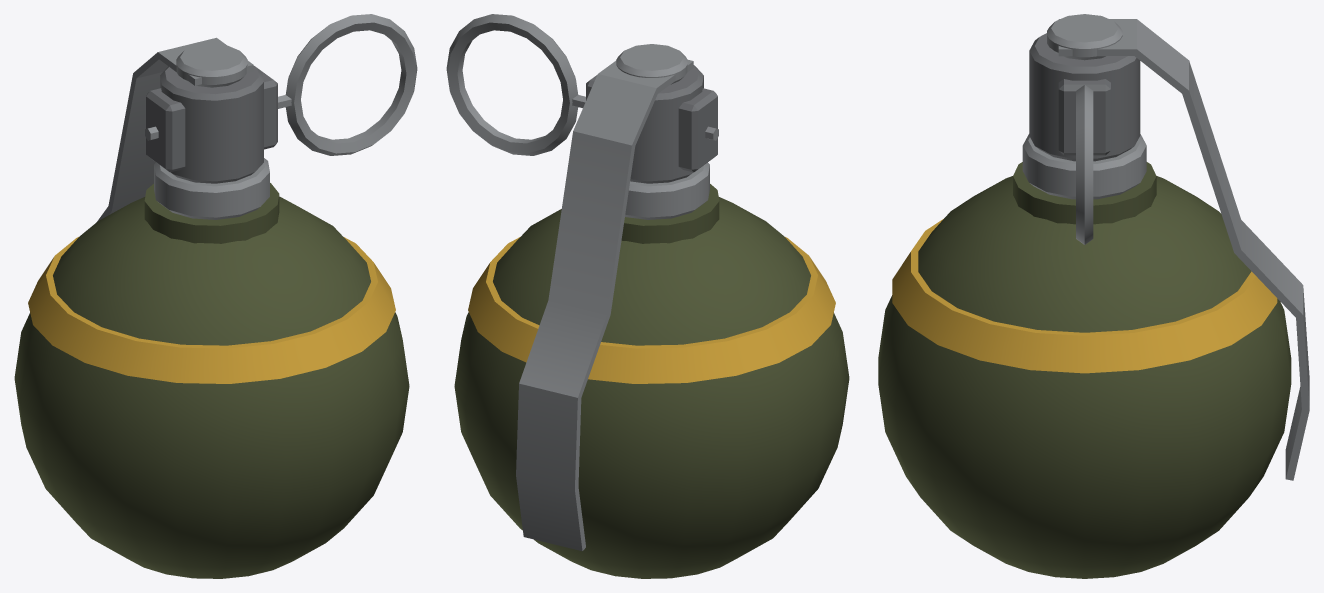
Rendered from prop_throwable_frag.glb.
The picture shows the model from 3 angles, left to right: view 1: azimuth 30°, elevation 25°; view 2: azimuth 150°, elevation 25°; view 3: azimuth 270°, elevation 25°; orthographic projection. The views are drawn at different scales.
Visible parts, largest first — view 1: Body, Pin; view 2: Body, Pin; view 3: Body, Pin.
Boxes of the visible parts, <box> form: Body: <box>14,37,409,578</box>; Pin: <box>145,14,417,155</box>; Body: <box>454,44,849,578</box>; Pin: <box>446,14,718,155</box>; Body: <box>878,14,1309,578</box>; Pin: <box>1076,85,1093,244</box>.
Size of the model in its own units: 0.0704 by 0.0914 by 0.0662.
